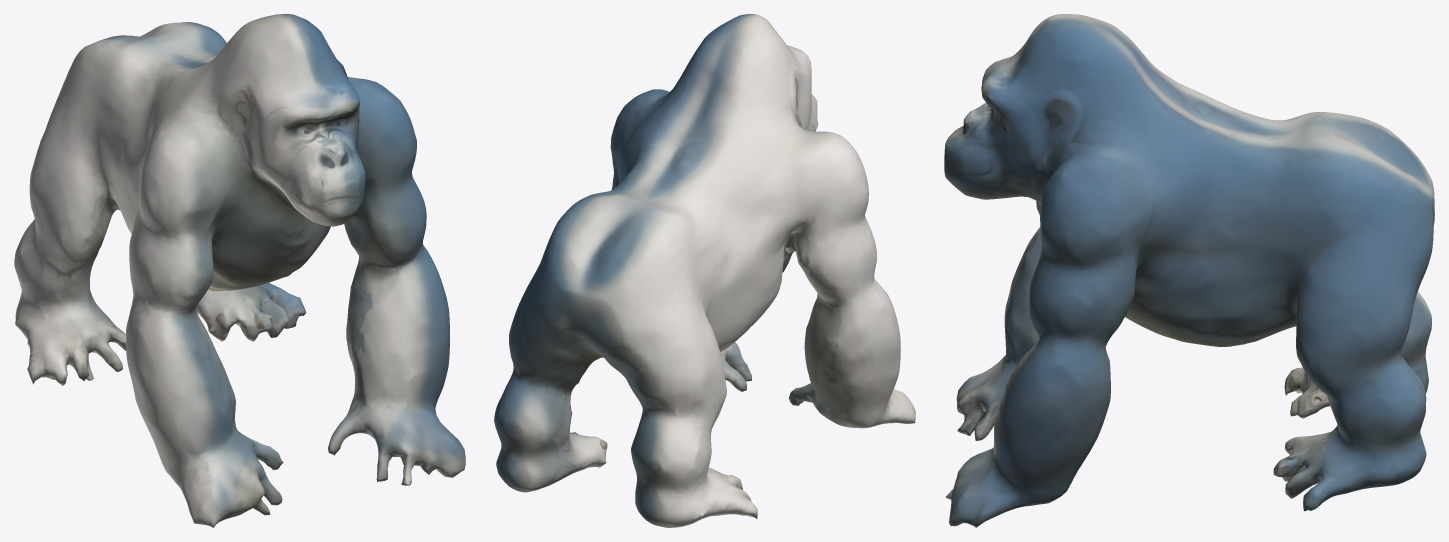
File: Gorilla.glb
3 renders of one model, left to right at view 1: azimuth 30°, elevation 25°; view 2: azimuth 150°, elevation 25°; view 3: azimuth 270°, elevation 25°, orthographic. The views are drawn at different scales.
Bounding box in the file's own units: 0.8529 × 1.2 × 1.17.
Materials: 1 (1 with a texture image).
